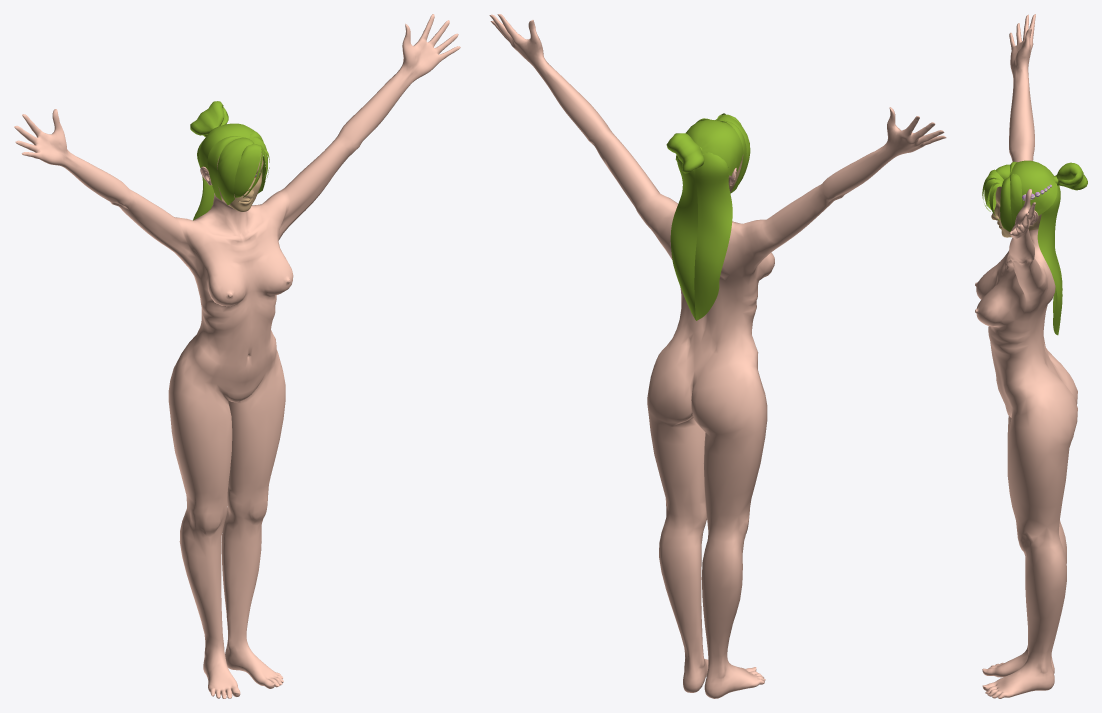
Rendered from newgirl.obj.
3 renders of one model, left to right at view 1: azimuth 30°, elevation 25°; view 2: azimuth 150°, elevation 25°; view 3: azimuth 270°, elevation 25°, orthographic. The views are drawn at different scales.
Parts seen in each view (by area): view 1: Box02, Surface05, Surface07, Sphere05, Cylinder01; view 2: Box02, Surface21, Surface15, Sphere05, Cylinder01; view 3: Box02, Surface15, Sphere05, Cylinder01, Surface10, Surface13.
Part boxes in pixels (x1,y1,x2,y2): Box02: (14, 14, 460, 698); Surface05: (217, 137, 253, 204); Surface07: (234, 143, 261, 197); Sphere05: (198, 123, 253, 170); Cylinder01: (190, 101, 228, 136); Box02: (489, 14, 946, 698); Surface21: (694, 152, 732, 320); Surface15: (670, 157, 697, 319); Sphere05: (675, 119, 743, 175); Cylinder01: (666, 133, 704, 173); Box02: (975, 14, 1077, 698); Surface15: (1037, 186, 1062, 335); Sphere05: (1010, 160, 1057, 215); Cylinder01: (1053, 162, 1087, 190); Surface10: (1000, 177, 1013, 231); Surface13: (1009, 173, 1022, 226).
Size of the model in its own units: 720 by 949 by 169.
